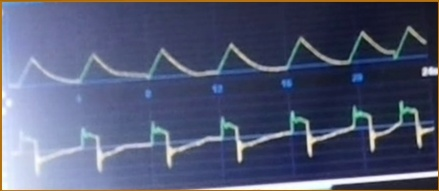Accumulation Flow: (6, 100, 436, 175)
Volume: (13, 20, 425, 87)
